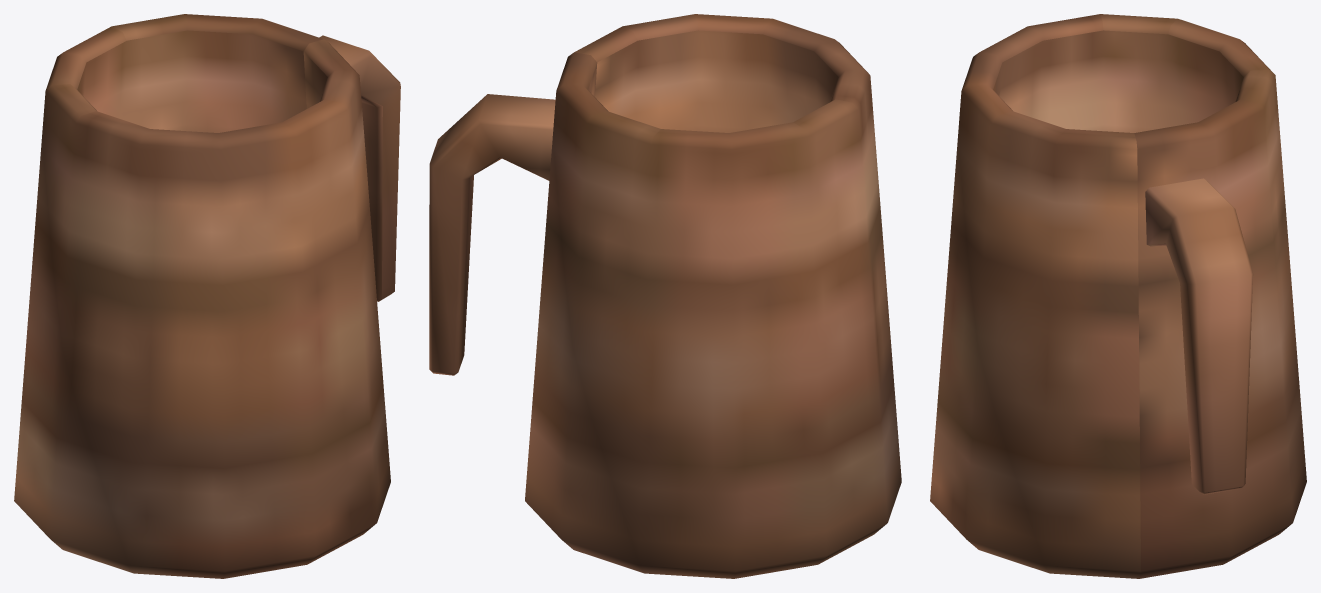
The model's file is Tankard (merge).fbx.
3 views of the same model, side by side, from view 1: azimuth 30°, elevation 25°; view 2: azimuth 150°, elevation 25°; view 3: azimuth 270°, elevation 25° (orthographic).
Parts seen in each view (by area): view 1: fi_vil_container_ale_mug; view 2: fi_vil_container_ale_mug; view 3: fi_vil_container_ale_mug.
Boxes of the visible parts, bbox=[...] form: fi_vil_container_ale_mug: bbox=[14, 14, 400, 578]; fi_vil_container_ale_mug: bbox=[429, 14, 901, 578]; fi_vil_container_ale_mug: bbox=[930, 14, 1306, 578].
Size of the model in its own units: 0.2576 by 0.2638 by 0.2103.
2 materials, 1 textured.
